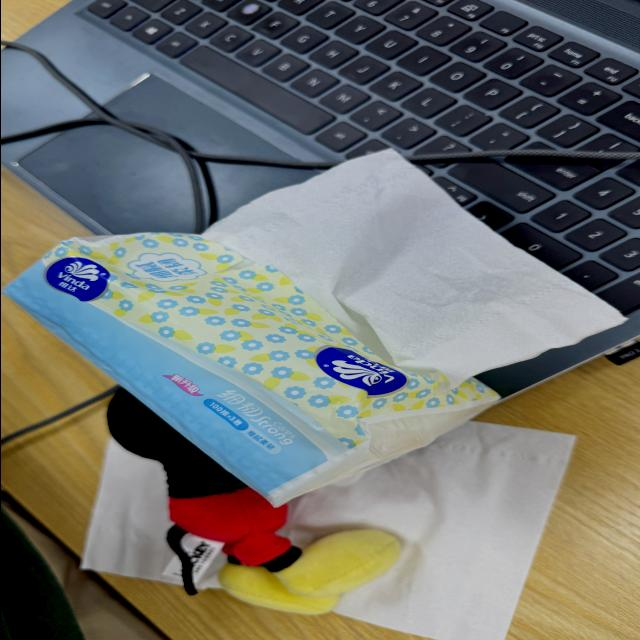tissue: (203, 151, 623, 385), (283, 422, 573, 639)
